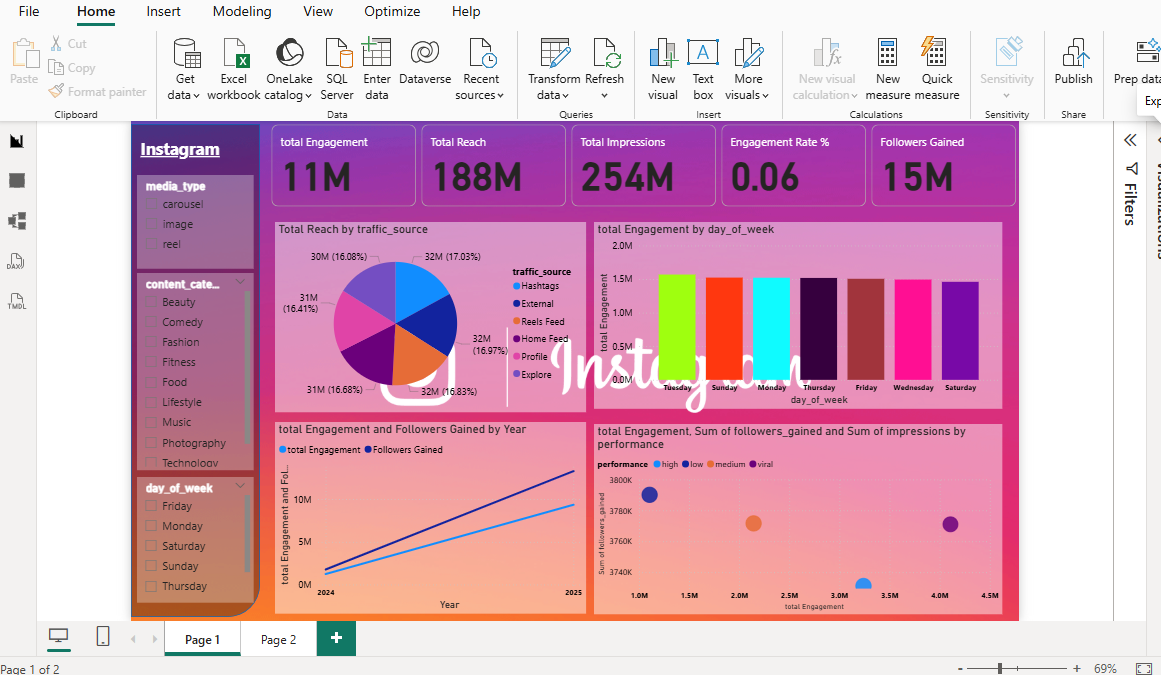

This screenshot's page, from the dashboard's own definition file:
{"tool":"powerbi","page":{"name":"Page 1","canvas":[1280,720],"ordinal":0},"visuals":[{"type":"cardVisual","fields":{"Data":["Instagram_Analytics.total Engagement","Instagram_Analytics.Total Reach","Instagram_Analytics.Total Impressions","Instagram_Analytics.Engagement Rate %","Instagram_Analytics.Followers Gained"]},"box":[197.3,0,1082.9,128.2],"z":0},{"type":"shape","box":[0,4.3,185.8,709.9],"z":1000},{"type":"slicer","fields":{"Values":["Instagram_Analytics.media_type"]},"box":[8.6,77.8,168.5,135.4],"z":2000},{"type":"slicer","fields":{"Values":["Instagram_Analytics.content_category"]},"box":[8.6,218.9,168.5,283.7],"z":3000},{"type":"slicer","fields":{"Values":["Instagram_Analytics.day_of_week"]},"box":[8.6,512.6,168.5,181.4],"z":4000},{"type":"lineChart","fields":{"Category":["Instagram_Analytics.post_date.Variation.Date Hierarchy.Year","Instagram_Analytics.post_date.Variation.Date Hierarchy.Quarter","Instagram_Analytics.post_date.Variation.Date Hierarchy.Month","Instagram_Analytics.post_date.Variation.Date Hierarchy.Day"],"Y":["Instagram_Analytics.total Engagement","Instagram_Analytics.Followers Gained"]},"box":[207.4,433.4,447.8,276.5],"z":5000},{"type":"columnChart","fields":{"Category":["Instagram_Analytics.day_of_week"],"Y":["Instagram_Analytics.total Engagement"]},"box":[666.7,145.4,587.5,269.3],"z":6000},{"type":"pieChart","fields":{"Category":["Instagram_Analytics.traffic_source"],"Y":["Instagram_Analytics.Total Reach"]},"box":[207.4,145.4,447.8,273.6],"z":7000},{"type":"scatterChart","fields":{"Series":["Instagram_Analytics.performance"],"Size":["Sum(Instagram_Analytics.impressions)"],"X":["Instagram_Analytics.total Engagement"],"Y":["Sum(Instagram_Analytics.followers_gained)"]},"box":[667,436,588,274],"z":8000},{"type":"textbox","box":[8.6,17.3,151.2,47.5],"z":9000}]}

Visuals, with their boxes on the page's 1280x720 design canvas (x1, y1, x2, y2). These are canvas units, not pixel positions in the 1161x675 screenshot, which may show the page scaled, cropped or inside an application window:
cardVisual - Instagram_Analytics.total Engagement x Instagram_Analytics.Total Reach: Rect(197, 0, 1280, 128)
shape: Rect(0, 4, 186, 714)
slicer - Instagram_Analytics.media_type: Rect(9, 78, 177, 213)
slicer - Instagram_Analytics.content_category: Rect(9, 219, 177, 503)
slicer - Instagram_Analytics.day_of_week: Rect(9, 513, 177, 694)
lineChart - Instagram_Analytics.post_date.Variation.Date Hierarchy.Year x Instagram_Analytics.post_date.Variation.Date Hierarchy.Quarter: Rect(207, 433, 655, 710)
columnChart - Instagram_Analytics.day_of_week x Instagram_Analytics.total Engagement: Rect(667, 145, 1254, 415)
pieChart - Instagram_Analytics.traffic_source x Instagram_Analytics.Total Reach: Rect(207, 145, 655, 419)
scatterChart - Instagram_Analytics.performance x Sum(Instagram_Analytics.impressions): Rect(667, 436, 1255, 710)
textbox: Rect(9, 17, 160, 65)
